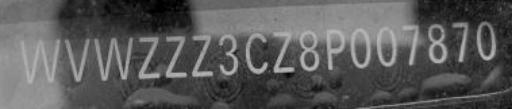letter: (19, 35, 59, 86), (92, 35, 132, 86), (62, 36, 92, 83), (268, 28, 296, 75), (187, 33, 215, 80), (244, 31, 272, 76), (134, 34, 160, 81), (296, 29, 322, 74), (214, 32, 240, 77), (400, 22, 424, 69), (164, 33, 188, 80), (474, 19, 500, 62), (372, 25, 398, 68), (426, 20, 450, 65), (346, 26, 370, 71), (450, 18, 472, 65), (323, 28, 345, 71)
